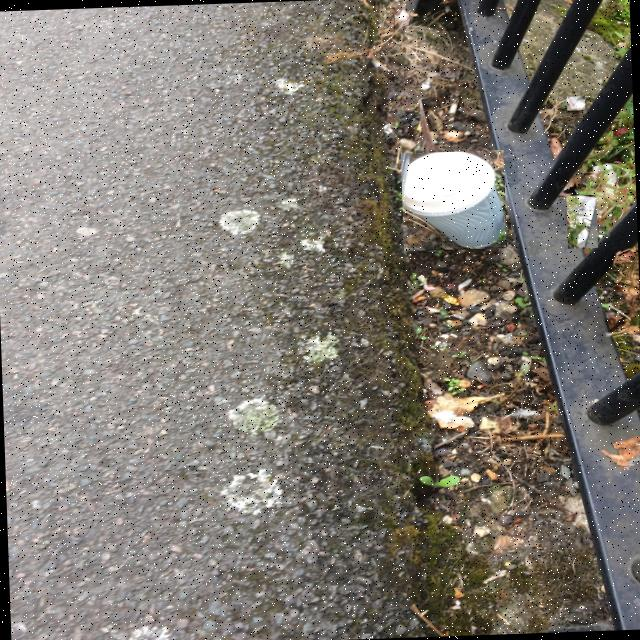Normal paper: (568, 196, 596, 248)
Paper cup: (403, 152, 505, 248)
Plastic lid: (411, 152, 504, 213)
Unlabeled litter: (566, 96, 585, 109)
